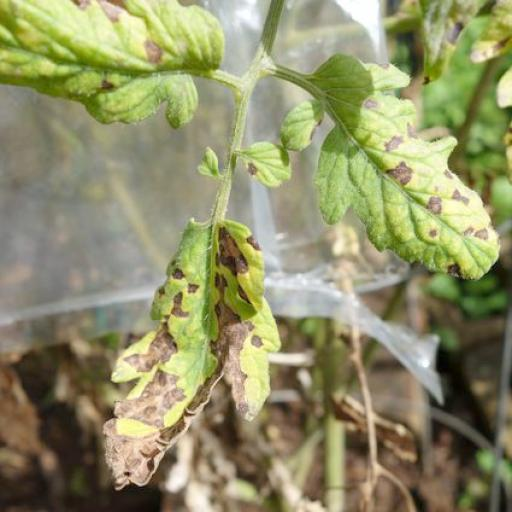disease_tomato: (284, 50, 503, 284), (97, 216, 279, 496), (1, 2, 227, 130)
